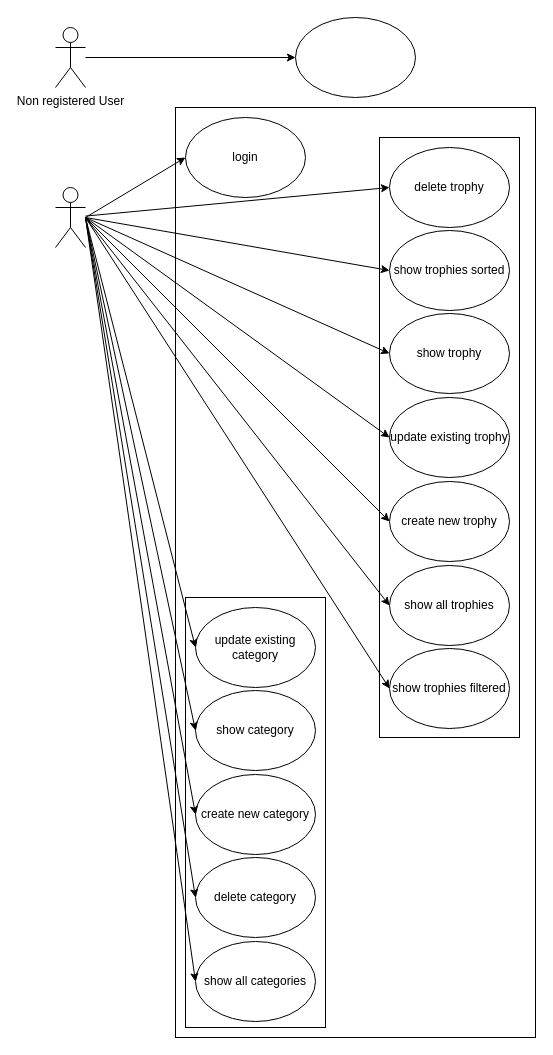
Image size: 553x1055. Some labels were removed from this diagram. Each missing label, with the centre of its shape:
"register" belongs at (355,57).
"Registered User" belongs at (70,217).
